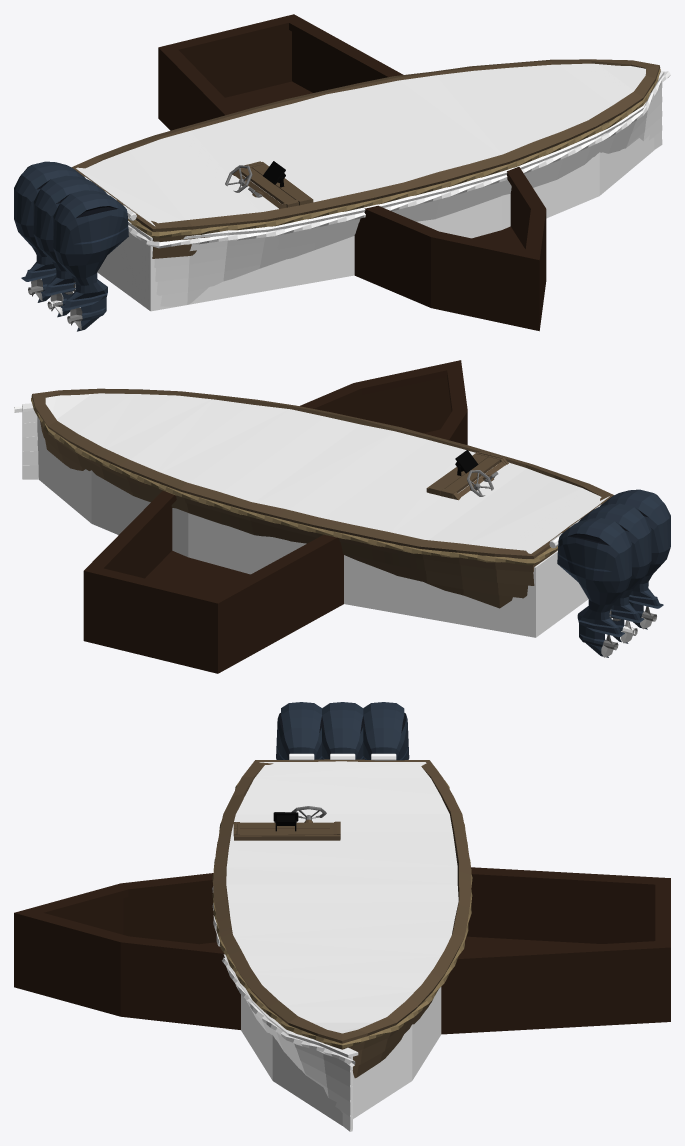
Rendered from Resources__other__Boat.glb.
3 views of the same model, one above another, from view 1: azimuth 30°, elevation 25°; view 2: azimuth 150°, elevation 25°; view 3: azimuth 270°, elevation 25° (orthographic). The views are drawn at different scales.
Parts seen in each view (by area): view 1: BoatMask, Boat, Plank, Boat2, Boat.001, BigMotor (×3), BigMotor (1); view 2: BoatMask, Boat, Boat2, Boat.001, BigMotor (1), BigMotor (×3), Plank; view 3: Boat, BoatMask, Boat2, Boat.001, BigMotor (×2), Plank, BigMotor (1).
Boxes of the visible parts, box(x1,y1,x2,y2) form: BoatMask: box(76, 63, 645, 226); Boat: box(158, 14, 546, 331); Plank: box(128, 70, 670, 306); Boat2: box(71, 59, 660, 258); Boat.001: box(97, 135, 654, 311); BigMotor (×3): box(33, 175, 128, 331); BigMotor (1): box(14, 161, 85, 302); BoatMask: box(45, 393, 609, 553); Boat: box(83, 360, 467, 673); Boat2: box(31, 388, 613, 608); Boat.001: box(37, 416, 588, 637); BigMotor (1): box(557, 518, 632, 657); BigMotor (×3): box(579, 489, 670, 643); Plank: box(14, 403, 38, 479); Boat: box(14, 867, 670, 1034); BoatMask: box(226, 761, 458, 1033); Boat2: box(212, 759, 472, 1078); Boat.001: box(241, 987, 441, 1125); BigMotor (×2): box(276, 702, 364, 759); Plank: box(212, 886, 358, 1131); BigMotor (1): box(362, 702, 409, 760).
Bounding box in the file's own units: 9.4 × 1.89 × 8.
Materials: 6 (2 with a texture image).
